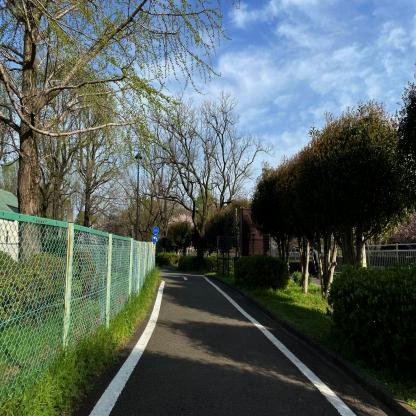Someiyoshino: (388, 206, 416, 255), (165, 213, 198, 228)
